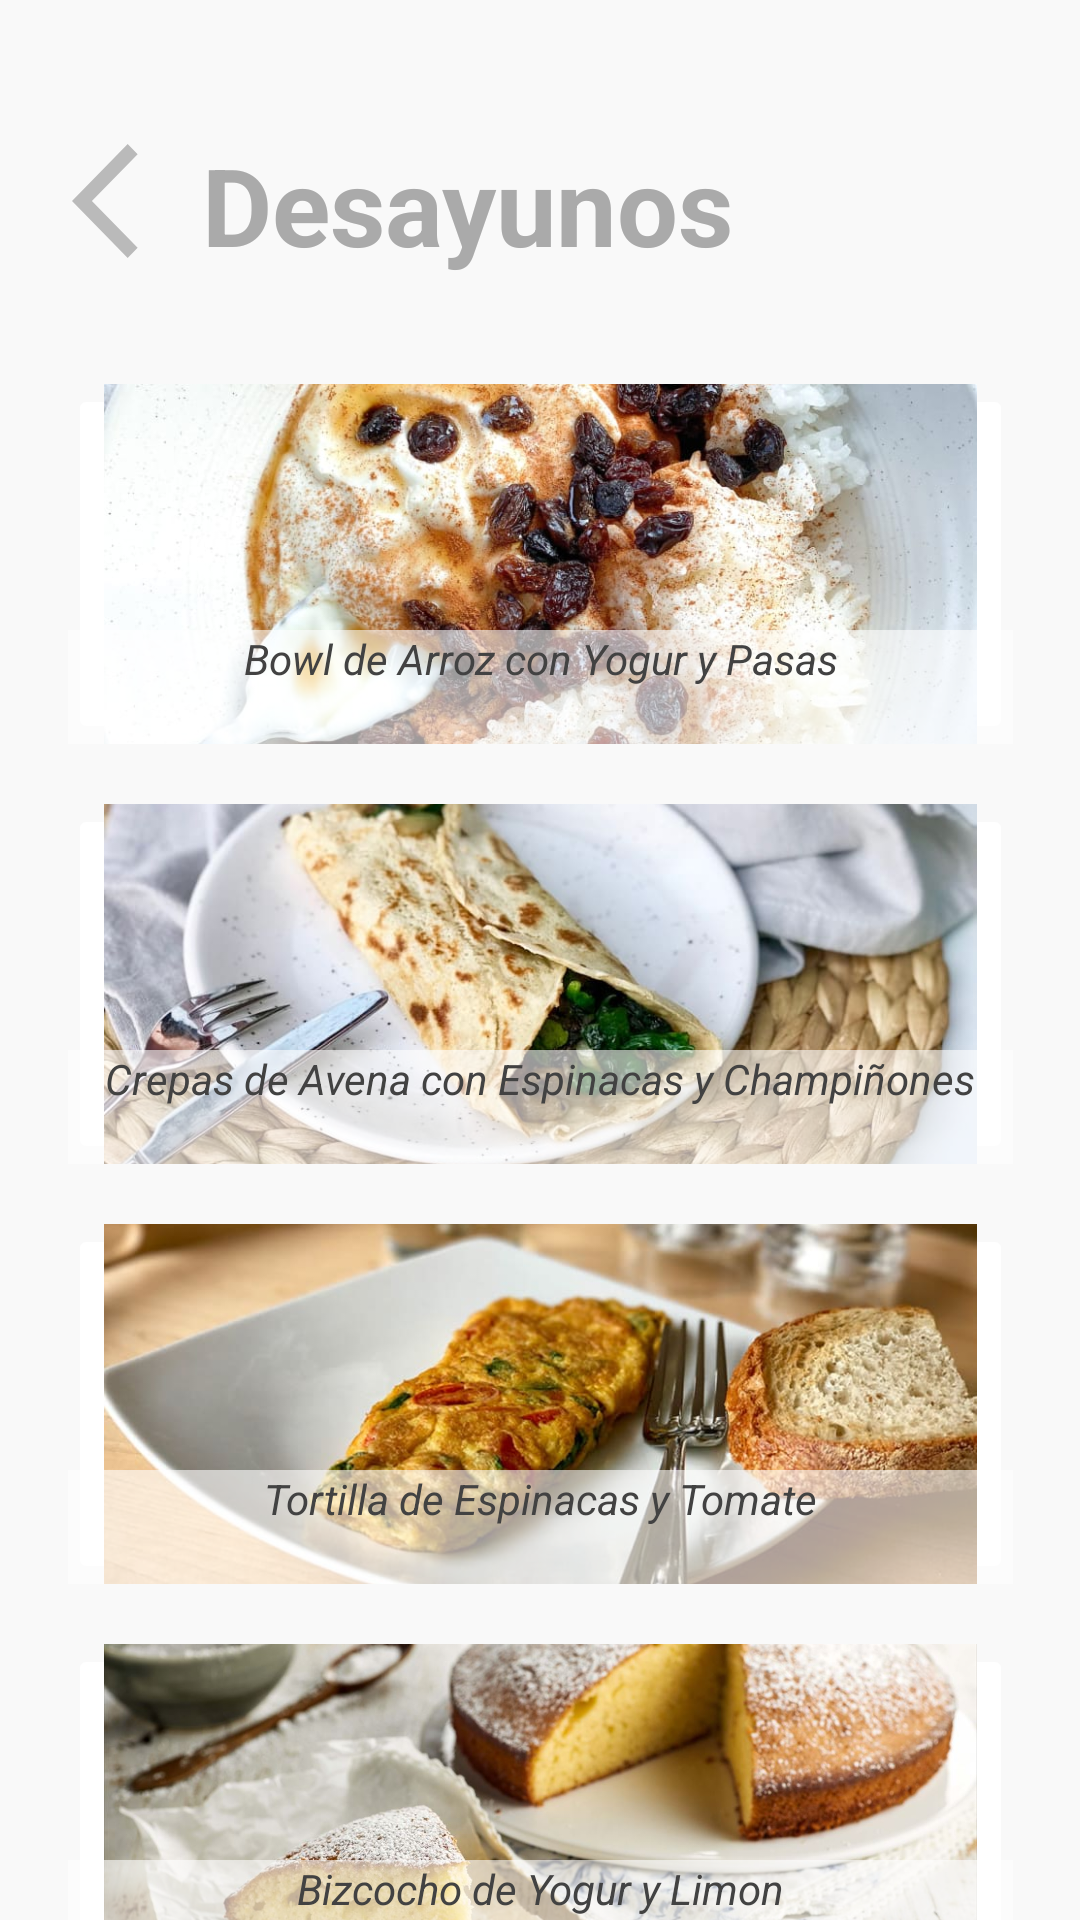

Named icons in this screenshot (1080*1920) and their bounding boxes, region(x1, y1, x2, y2):
flecha: region(72, 144, 137, 258)
